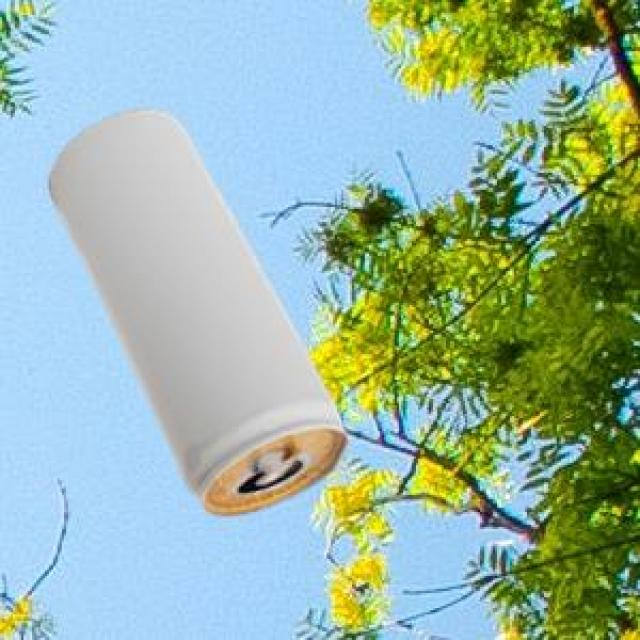logam: (46, 106, 345, 513)
